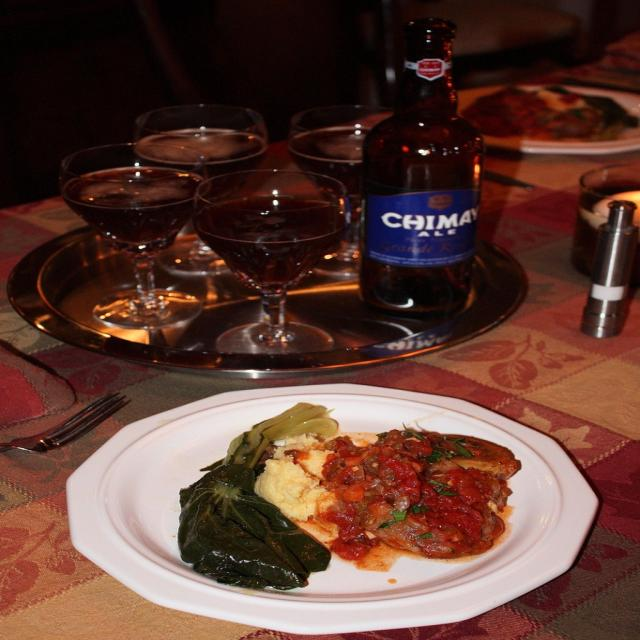chimay: (365, 189, 478, 269)
